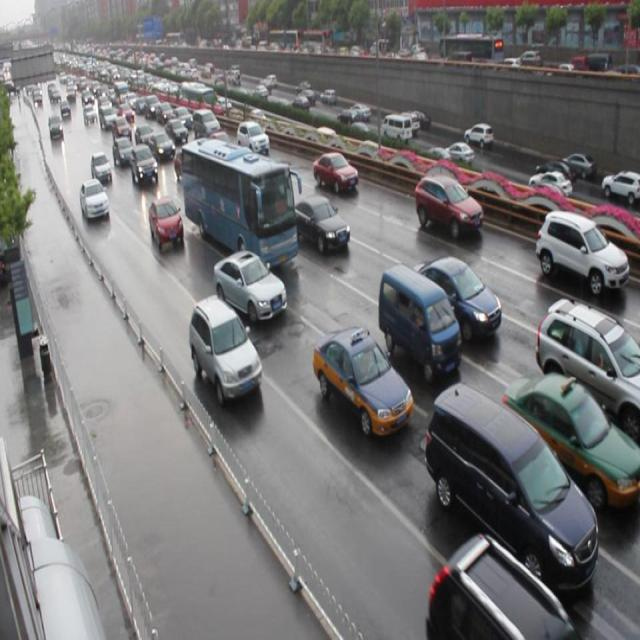car: (501, 370, 640, 509), (428, 533, 576, 640), (533, 296, 640, 438), (310, 322, 409, 435), (533, 206, 629, 296), (188, 293, 264, 405), (411, 254, 501, 341), (213, 248, 285, 321), (413, 174, 484, 238), (293, 194, 349, 254), (311, 148, 359, 194), (148, 193, 184, 249), (234, 118, 270, 156), (80, 178, 110, 222), (128, 142, 158, 186)
truck: (421, 380, 594, 586), (377, 263, 460, 379)
van: (178, 134, 294, 268)
